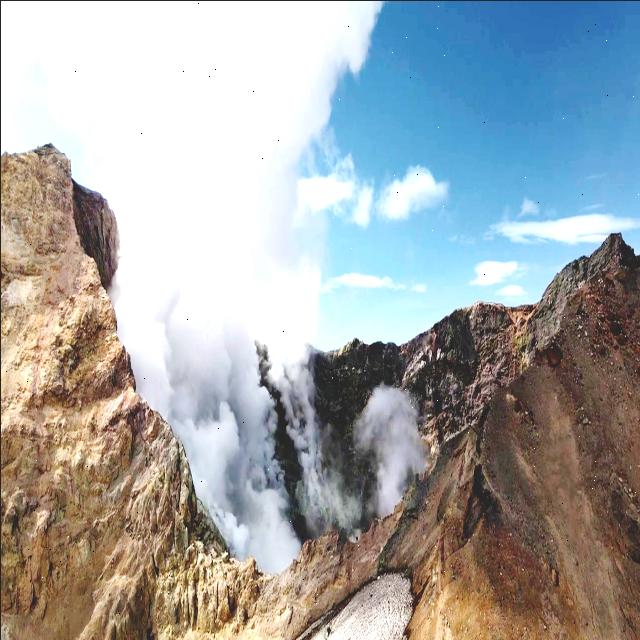asap: (19, 1, 385, 578), (160, 1, 377, 558), (60, 8, 181, 446), (217, 4, 329, 384), (350, 381, 457, 550)
